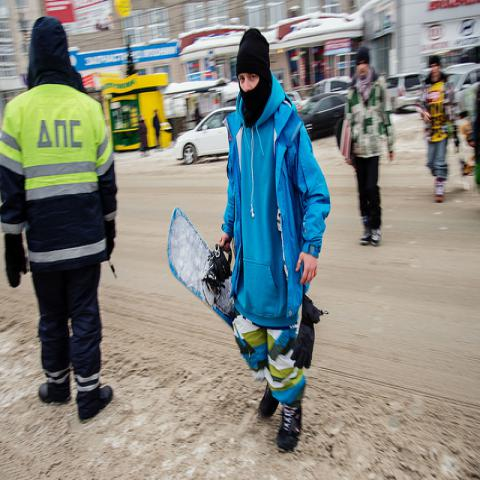car: (175, 106, 236, 166), (298, 92, 347, 142), (386, 72, 422, 112), (442, 60, 479, 96), (303, 76, 351, 96), (285, 90, 311, 112), (221, 86, 239, 106)
